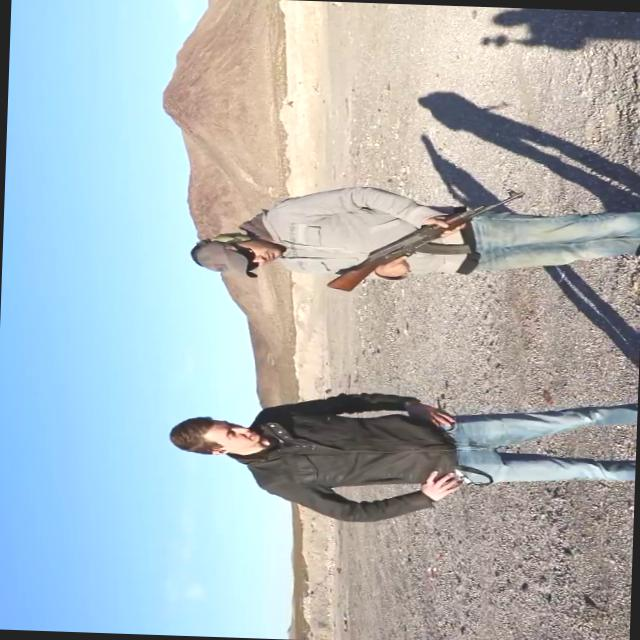long weapon: (316, 174, 524, 302)
